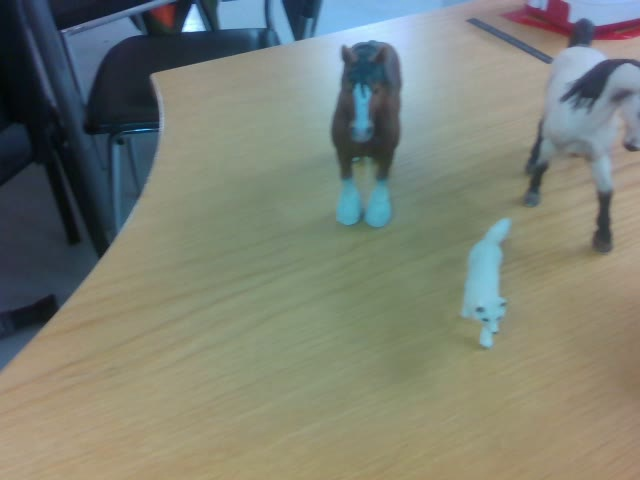toy: (523, 16, 638, 253), (329, 42, 403, 226), (459, 217, 512, 350)
